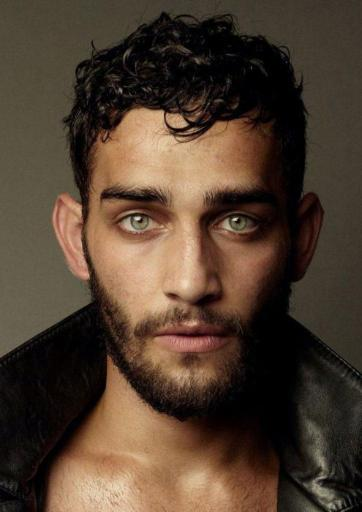left_eye: (212, 211, 267, 238)
left_lip_corner: (221, 324, 240, 349)
right_eye: (112, 211, 166, 237)
right_lip_corner: (149, 325, 171, 348)
